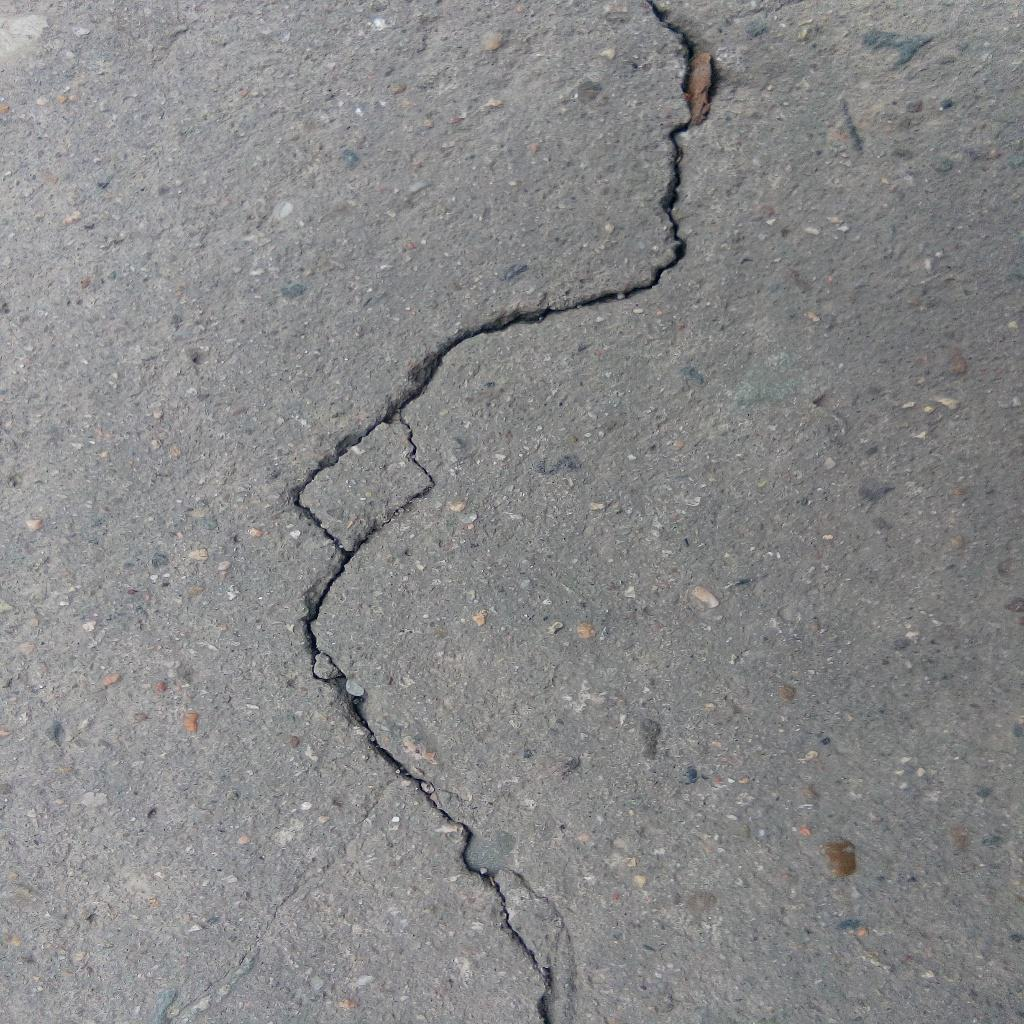Crack: (291, 1, 721, 1024)
